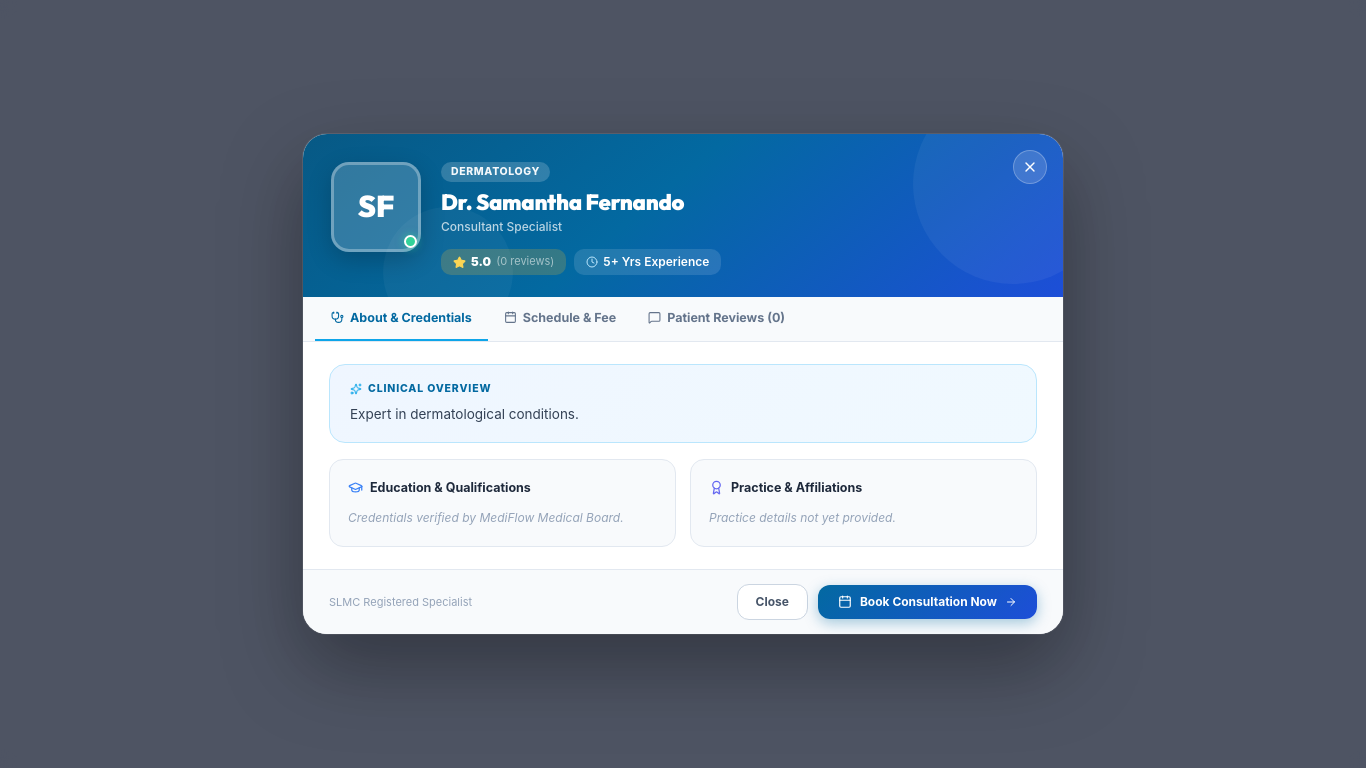
Test: DoctorProfileModal Component › gracefully handles appointment-style doctor object with doctorName and specialtyName
The image size is (1366, 768).
Expected: the heading "Dr. Samantha Fernando" is shown, left=441, top=188, right=684, bottom=216
Expected: the text "Dermatology" is shown, left=441, top=162, right=550, bottom=182
What coordinates should you click on to do the following:
click the button "Schedule & Fee"
I would click on:
 (560, 319)
Its box is left=488, top=297, right=632, bottom=341.
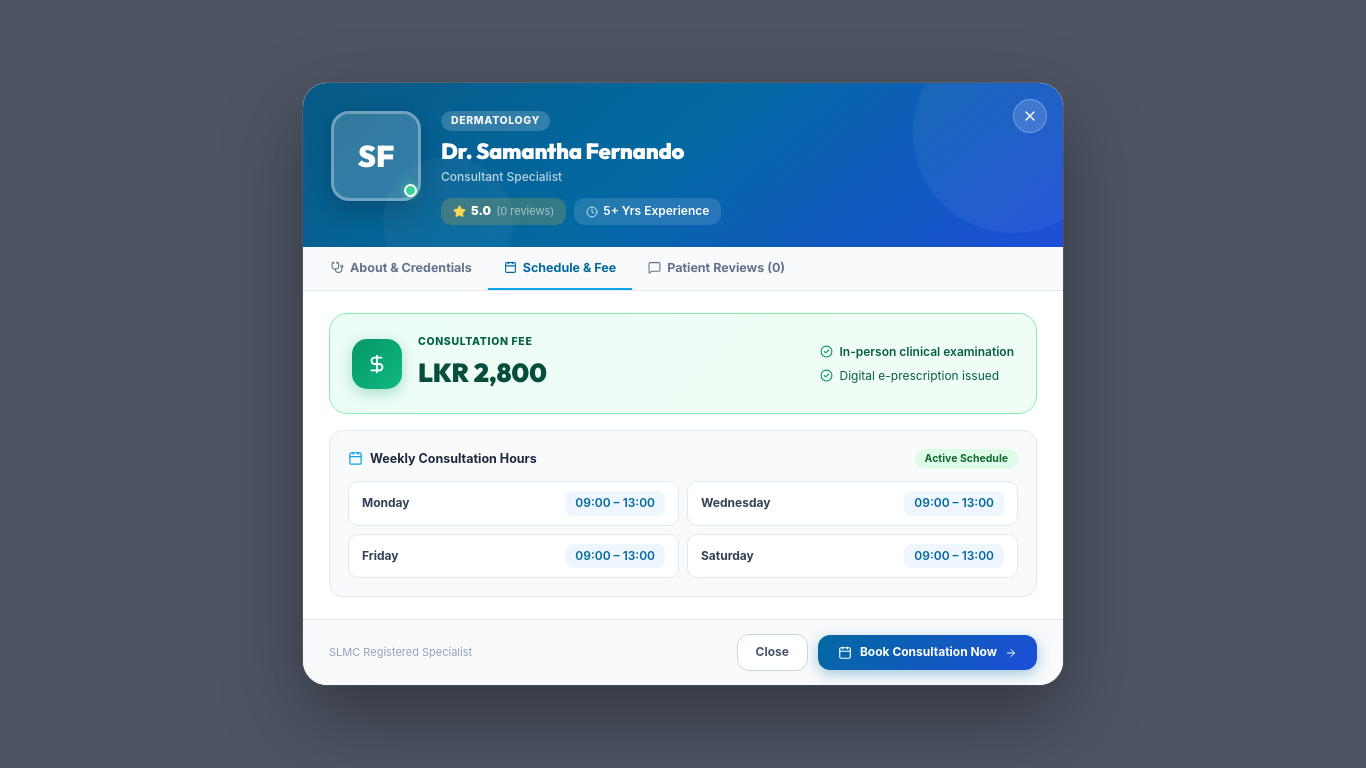
Expected: the text "LKR 2,800" is shown, left=418, top=352, right=547, bottom=393
